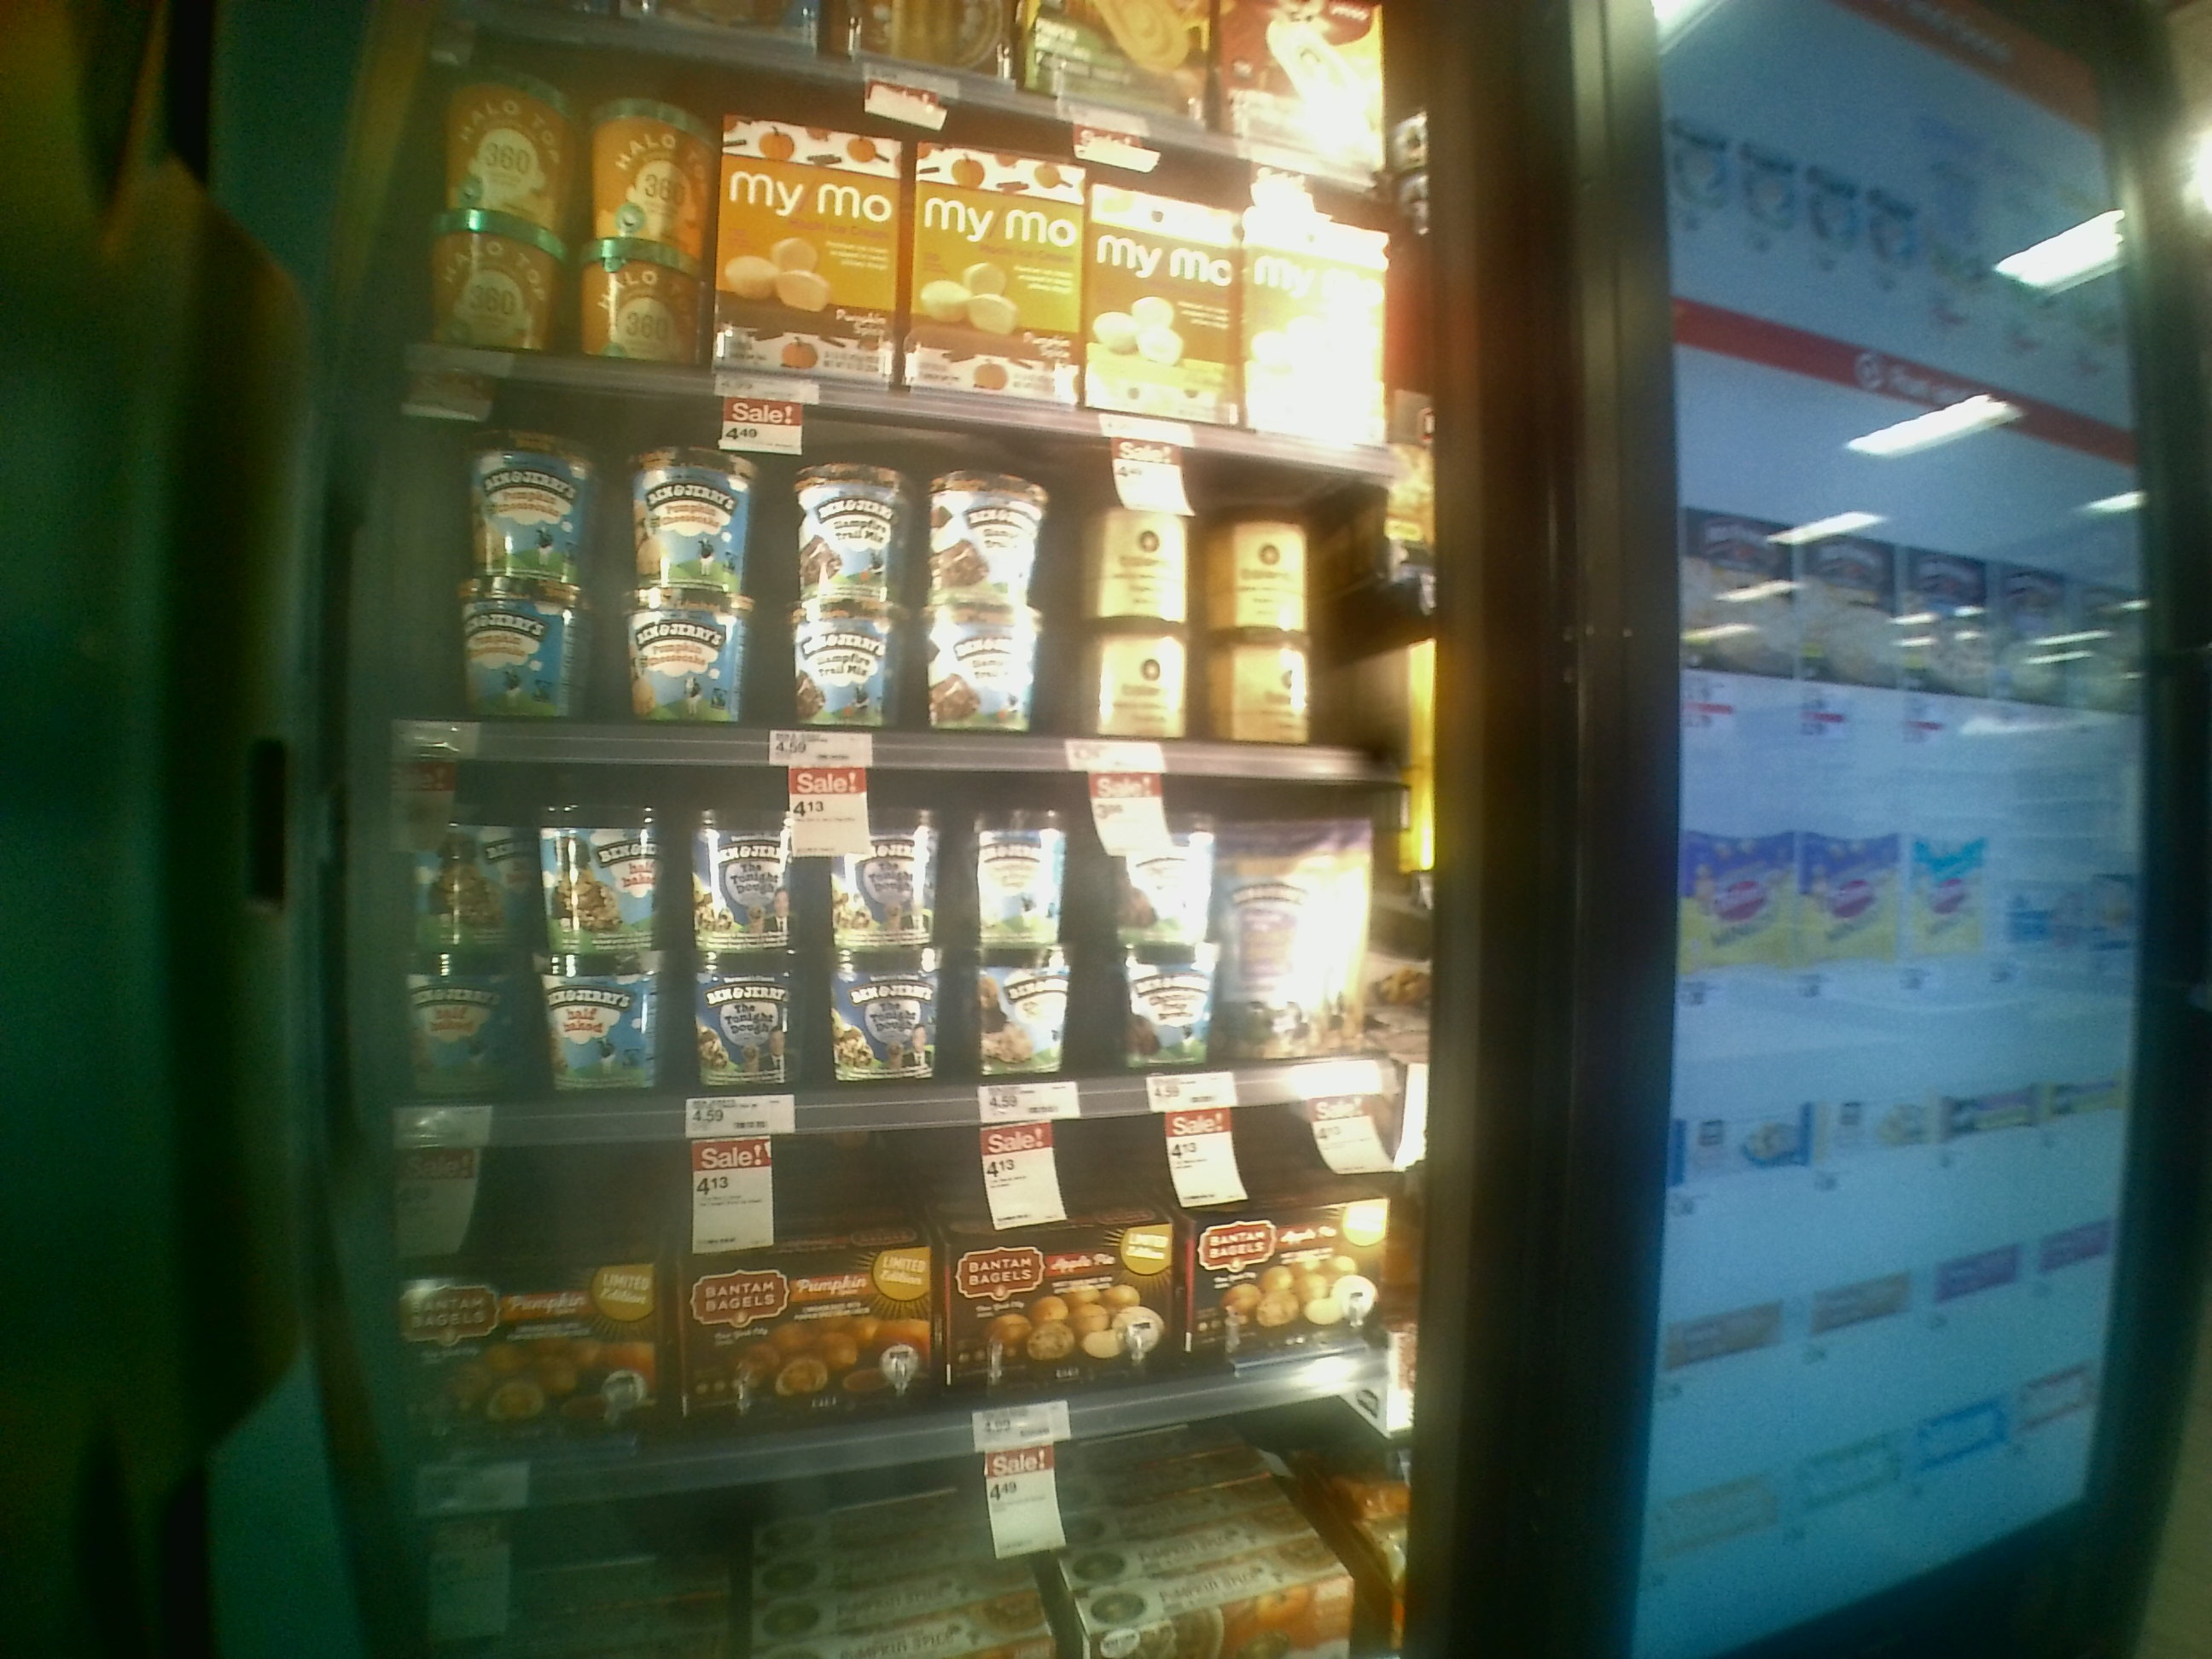shelf: (359, 368, 1433, 791), (341, 737, 1432, 1121), (345, 1122, 1416, 1455)
